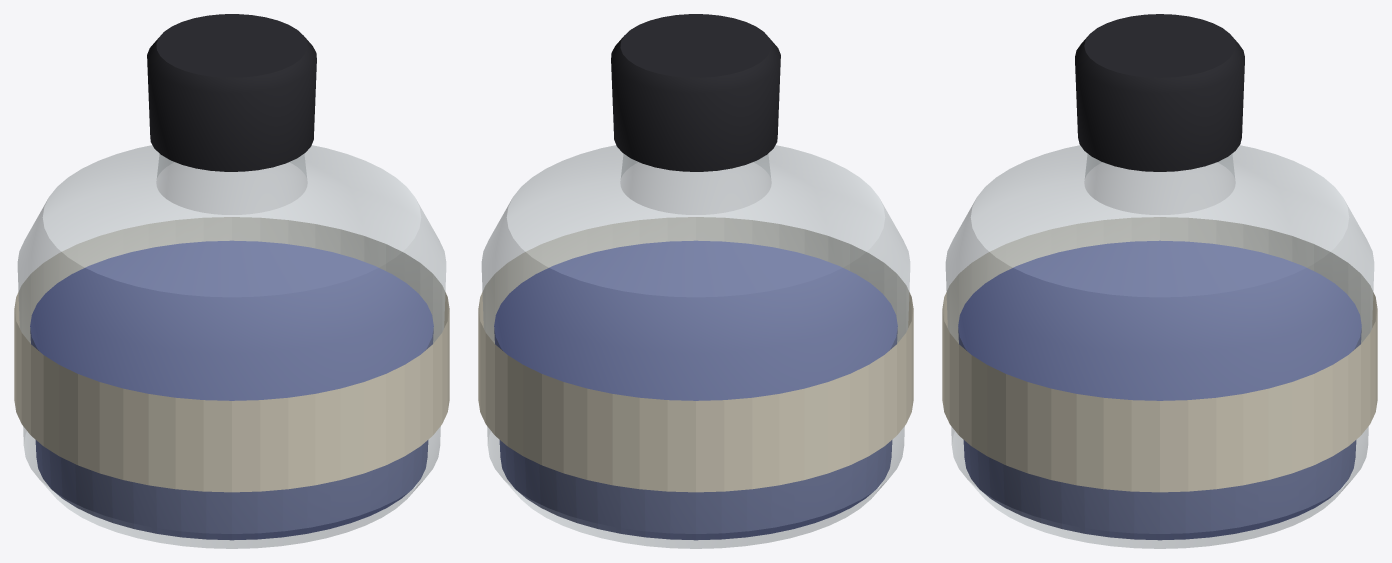
File: inkbottle.glb
3 renders of one model, left to right at view 1: azimuth 30°, elevation 25°; view 2: azimuth 150°, elevation 25°; view 3: azimuth 270°, elevation 25°, orthographic.
Parts seen in each view (by area): view 1: InkBottle; view 2: InkBottle; view 3: InkBottle.
Part boxes in pixels (<box>): InkBottle: <box>14,14,449,548</box>; InkBottle: <box>478,14,913,548</box>; InkBottle: <box>942,14,1377,548</box>.
Bounding box in the file's own units: 0.69 × 0.74 × 0.69.
